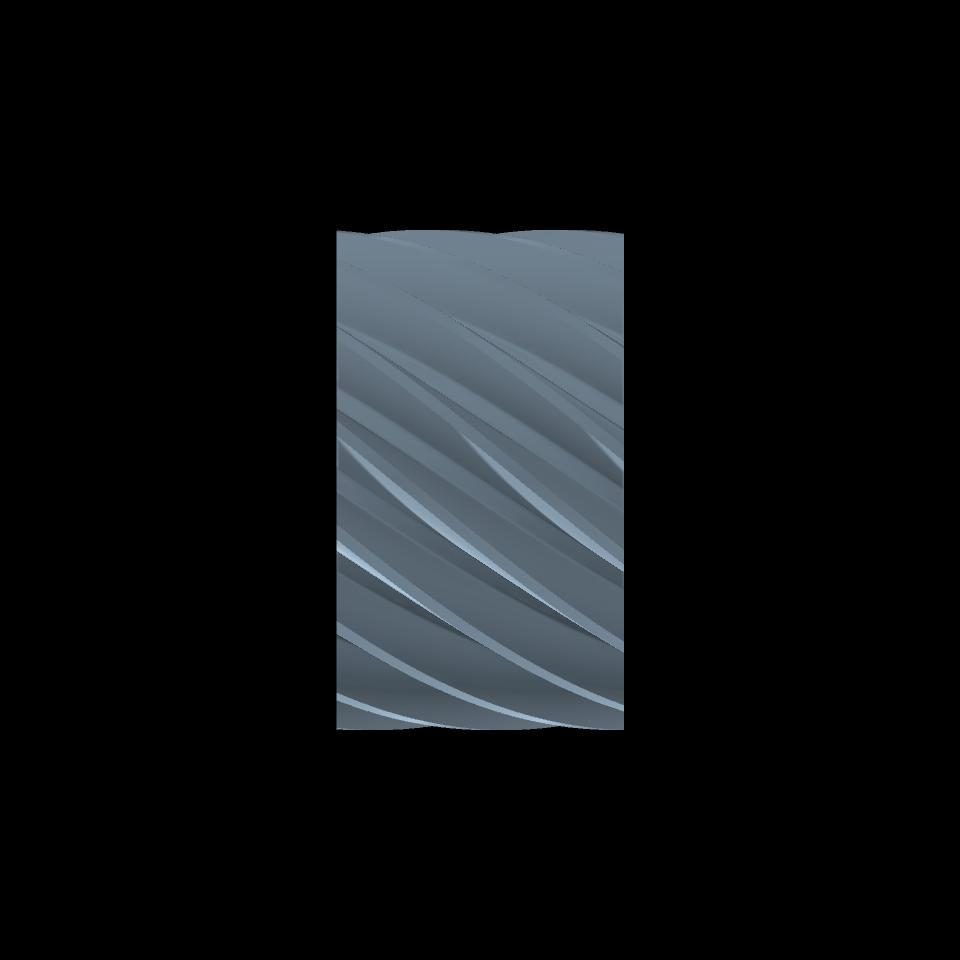Helical: (337, 231, 624, 729)
